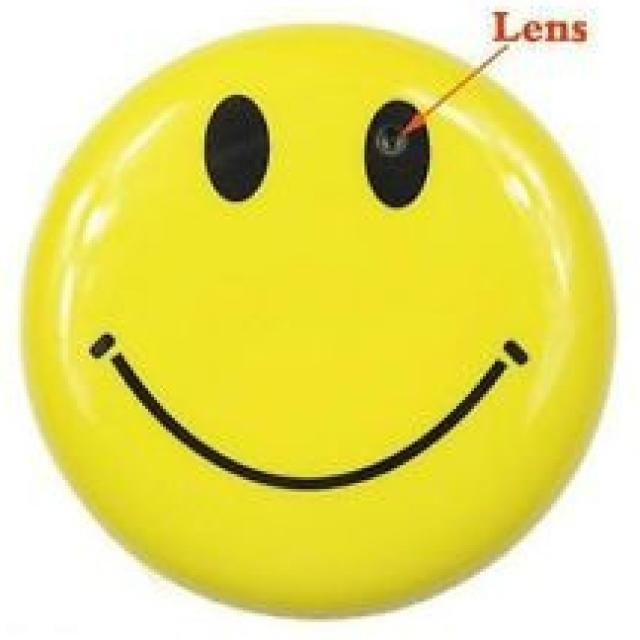hidden camera: (375, 121, 408, 160)
